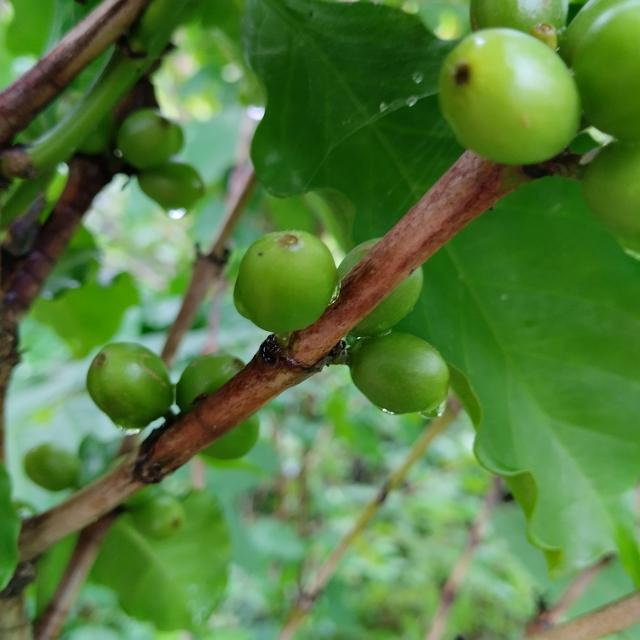green: (440, 27, 582, 164), (234, 230, 338, 333), (350, 332, 450, 417), (86, 342, 173, 430), (351, 266, 424, 337), (176, 352, 244, 415), (201, 416, 259, 460), (337, 238, 381, 280)
